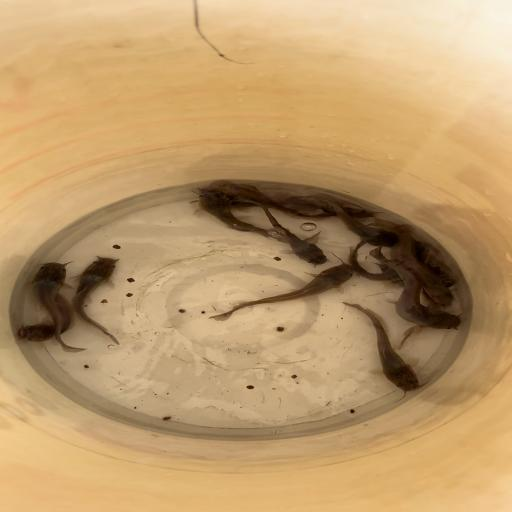lele: (207, 263, 356, 324), (367, 245, 462, 331), (340, 300, 423, 393), (194, 188, 322, 246), (210, 174, 377, 218), (235, 197, 329, 266), (30, 261, 88, 353), (70, 255, 122, 346), (397, 225, 454, 308), (316, 195, 396, 247), (16, 291, 77, 342), (347, 244, 433, 280), (218, 194, 326, 221)
